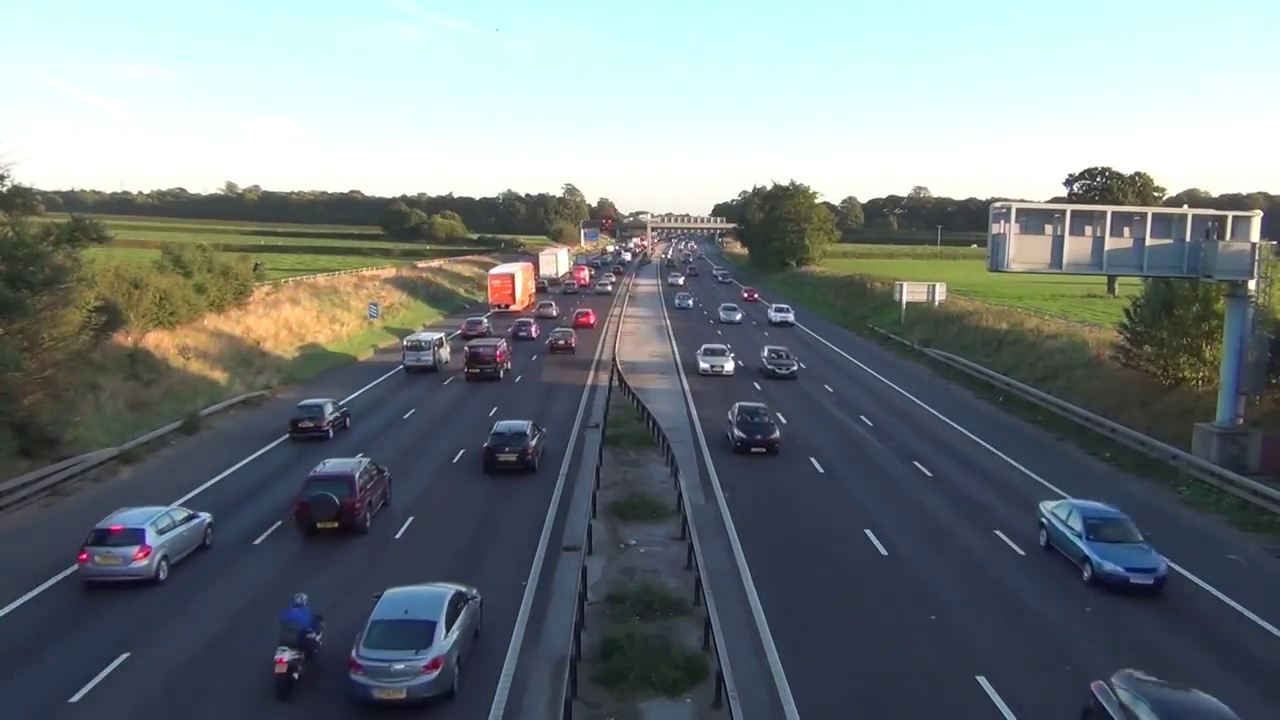bus: (342, 582, 483, 705), (1035, 490, 1176, 600), (80, 507, 214, 586), (1083, 666, 1247, 717), (297, 460, 391, 538), (712, 397, 789, 464), (483, 415, 550, 470), (285, 395, 350, 445), (757, 344, 804, 382), (695, 341, 739, 377), (715, 302, 749, 328), (766, 303, 801, 327), (549, 327, 577, 353), (510, 317, 540, 340), (460, 317, 492, 338), (672, 291, 698, 312), (571, 309, 596, 327), (537, 300, 560, 318), (739, 286, 761, 302), (668, 271, 687, 287), (716, 271, 737, 285), (562, 277, 578, 293), (711, 266, 726, 280), (685, 265, 701, 278), (664, 258, 680, 270), (595, 282, 613, 292), (536, 279, 548, 292), (601, 273, 616, 283), (610, 265, 625, 274), (590, 261, 601, 269), (588, 267, 595, 276)
car: (485, 262, 538, 314), (538, 246, 572, 284)
jeep: (268, 590, 325, 697)
lorry: (463, 338, 513, 381), (401, 332, 452, 372), (570, 260, 574, 274)
minibus: (572, 264, 589, 286)
